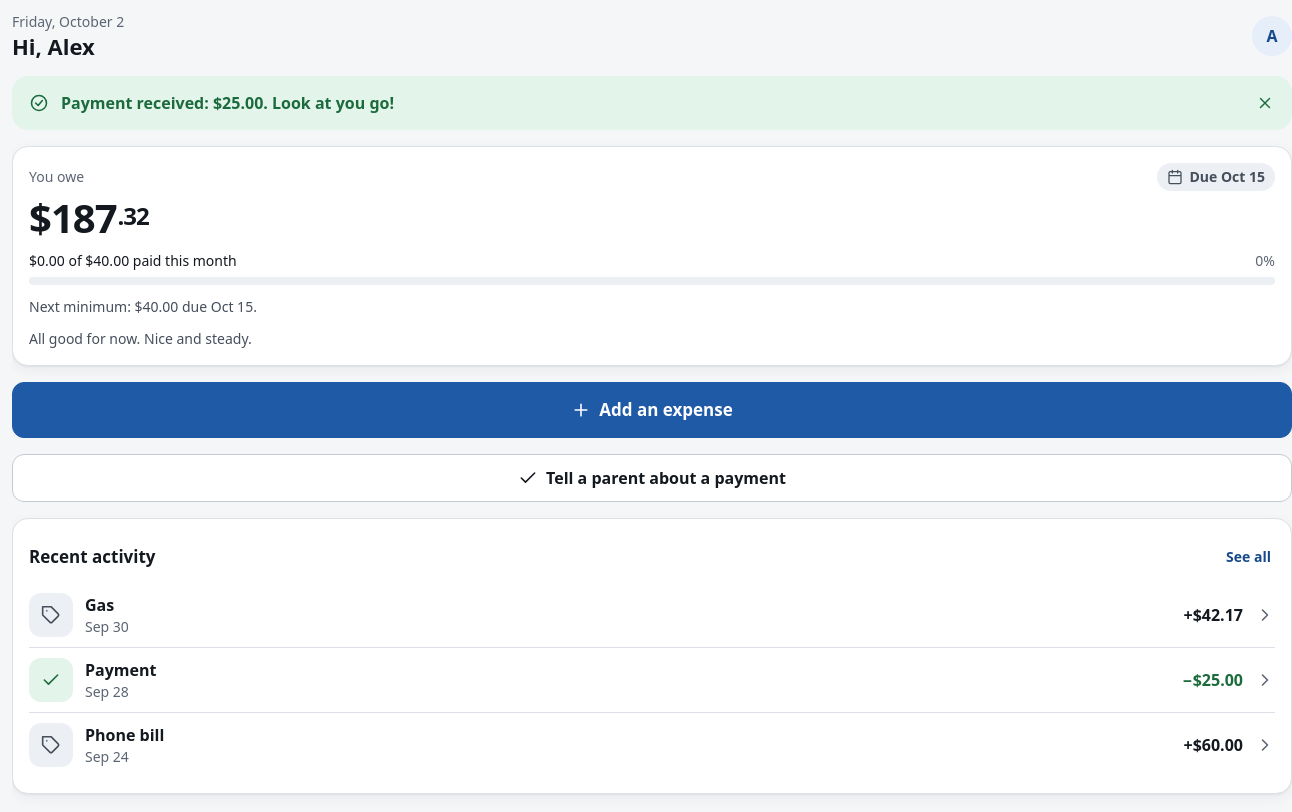
ChildDashboardPage › payment received since last visit › can be dismissed
What coordinates should you click on to do the following:
click the button named "Dismiss"
I would click on:
 (1265, 103)
Its box is [1243, 81, 1287, 125].
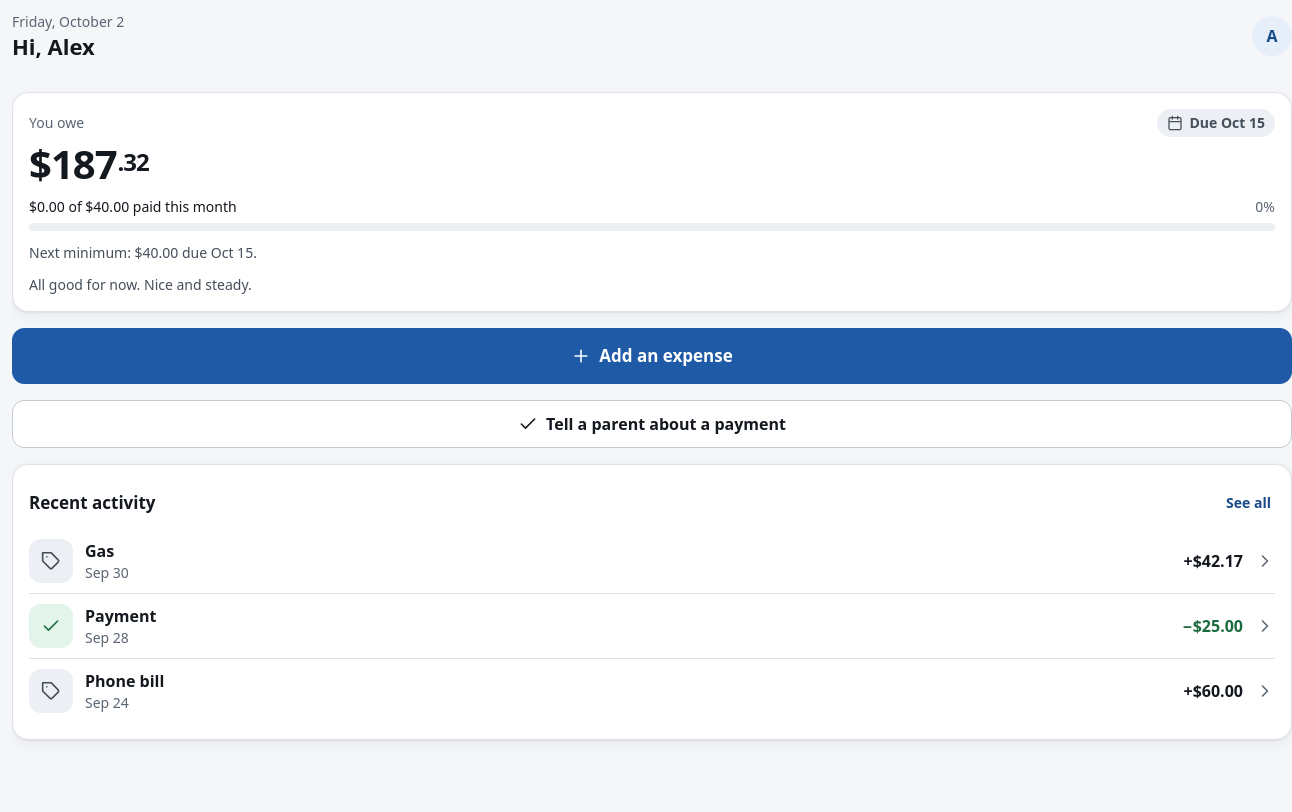
Expected: the element with test id "payment-received" is gone
